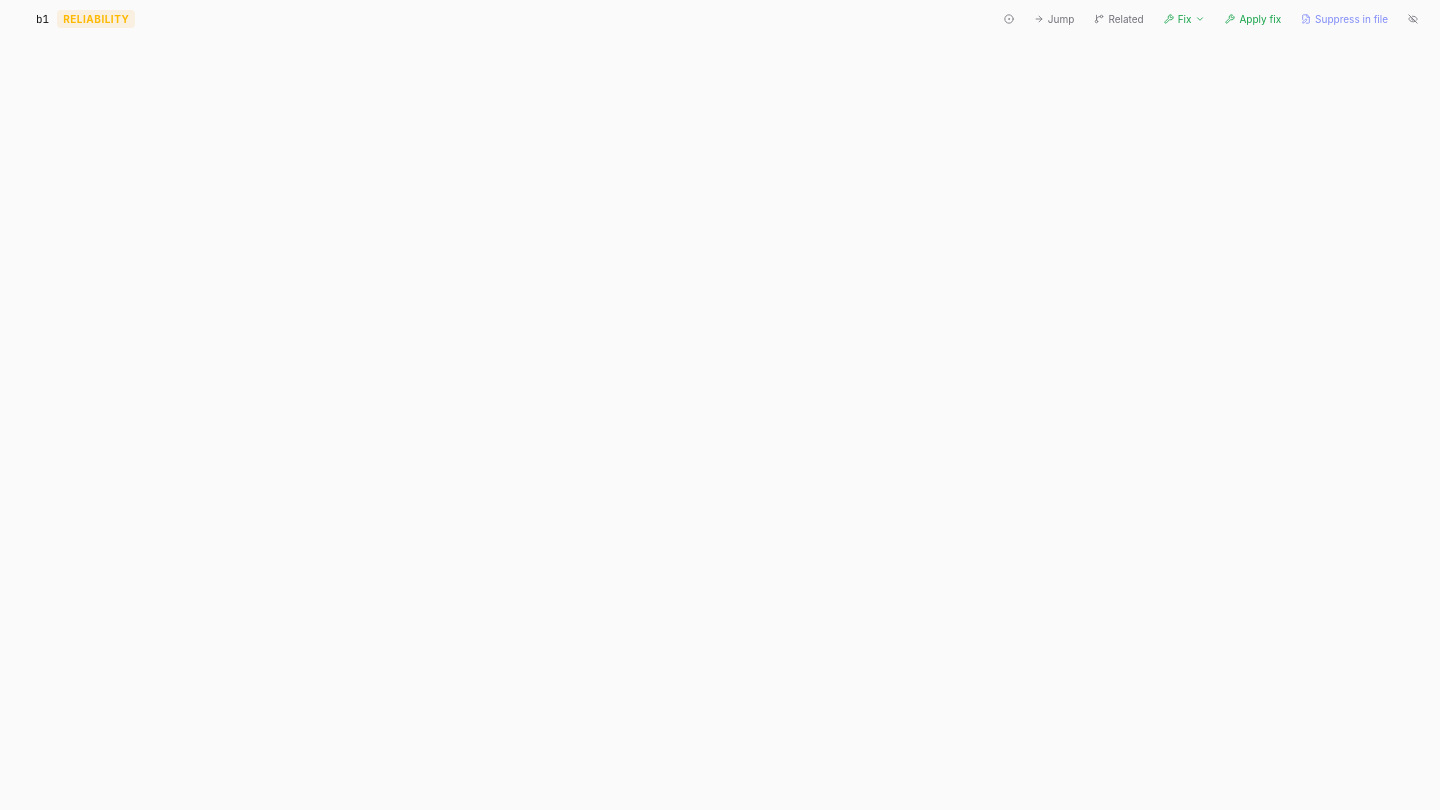
FindingCard apply-fix chain › shows error toast when applyFix fails
What coordinates should you click on to do the following:
click the button "Apply fix"
I would click on:
 (1253, 19)
Its box is [1220, 8, 1287, 30].
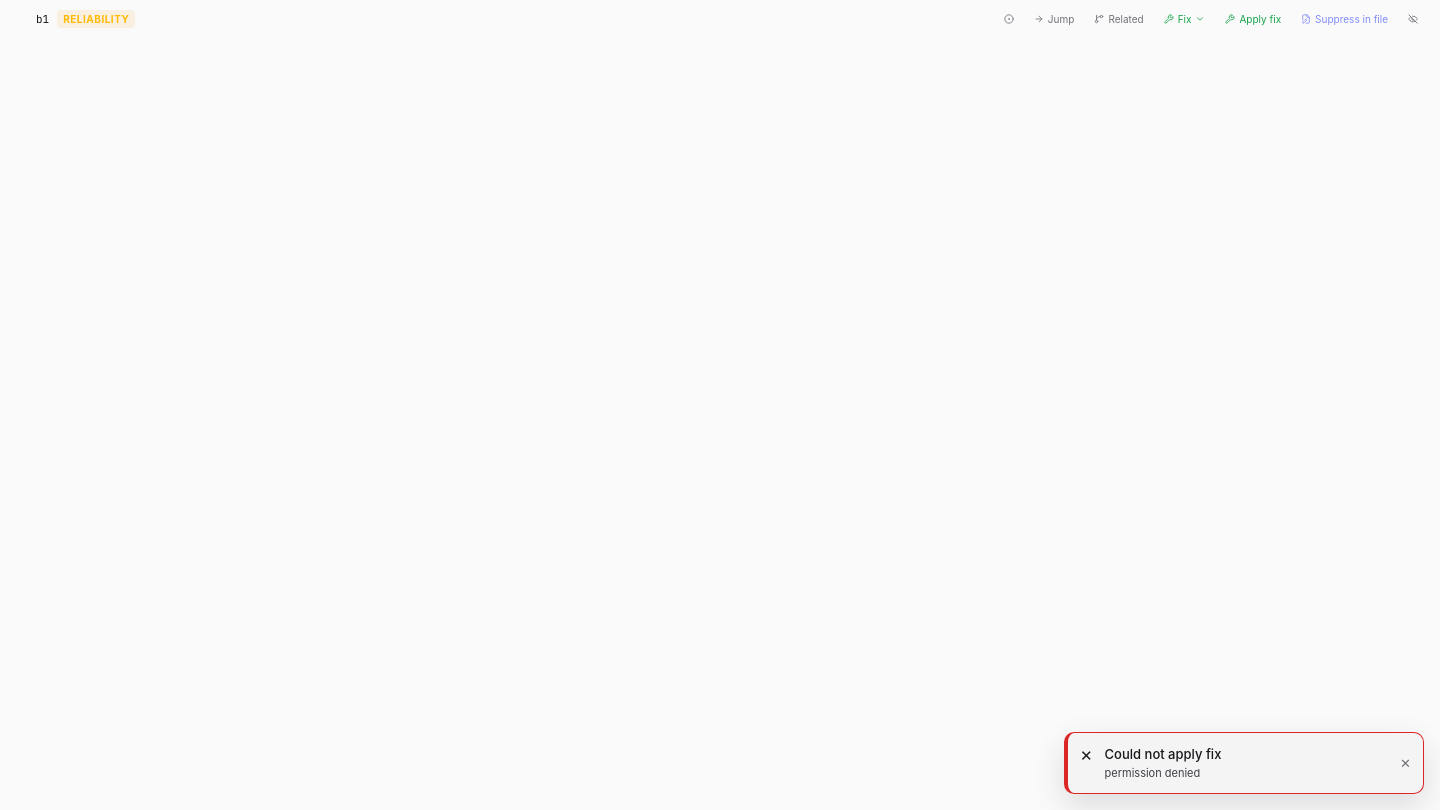
Expected: the text "Could not apply fix" is shown, [1105, 746, 1221, 762]
